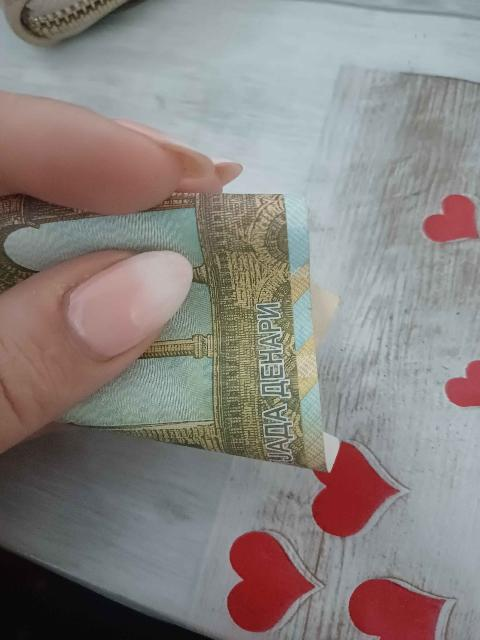note: (0, 194, 337, 470)
